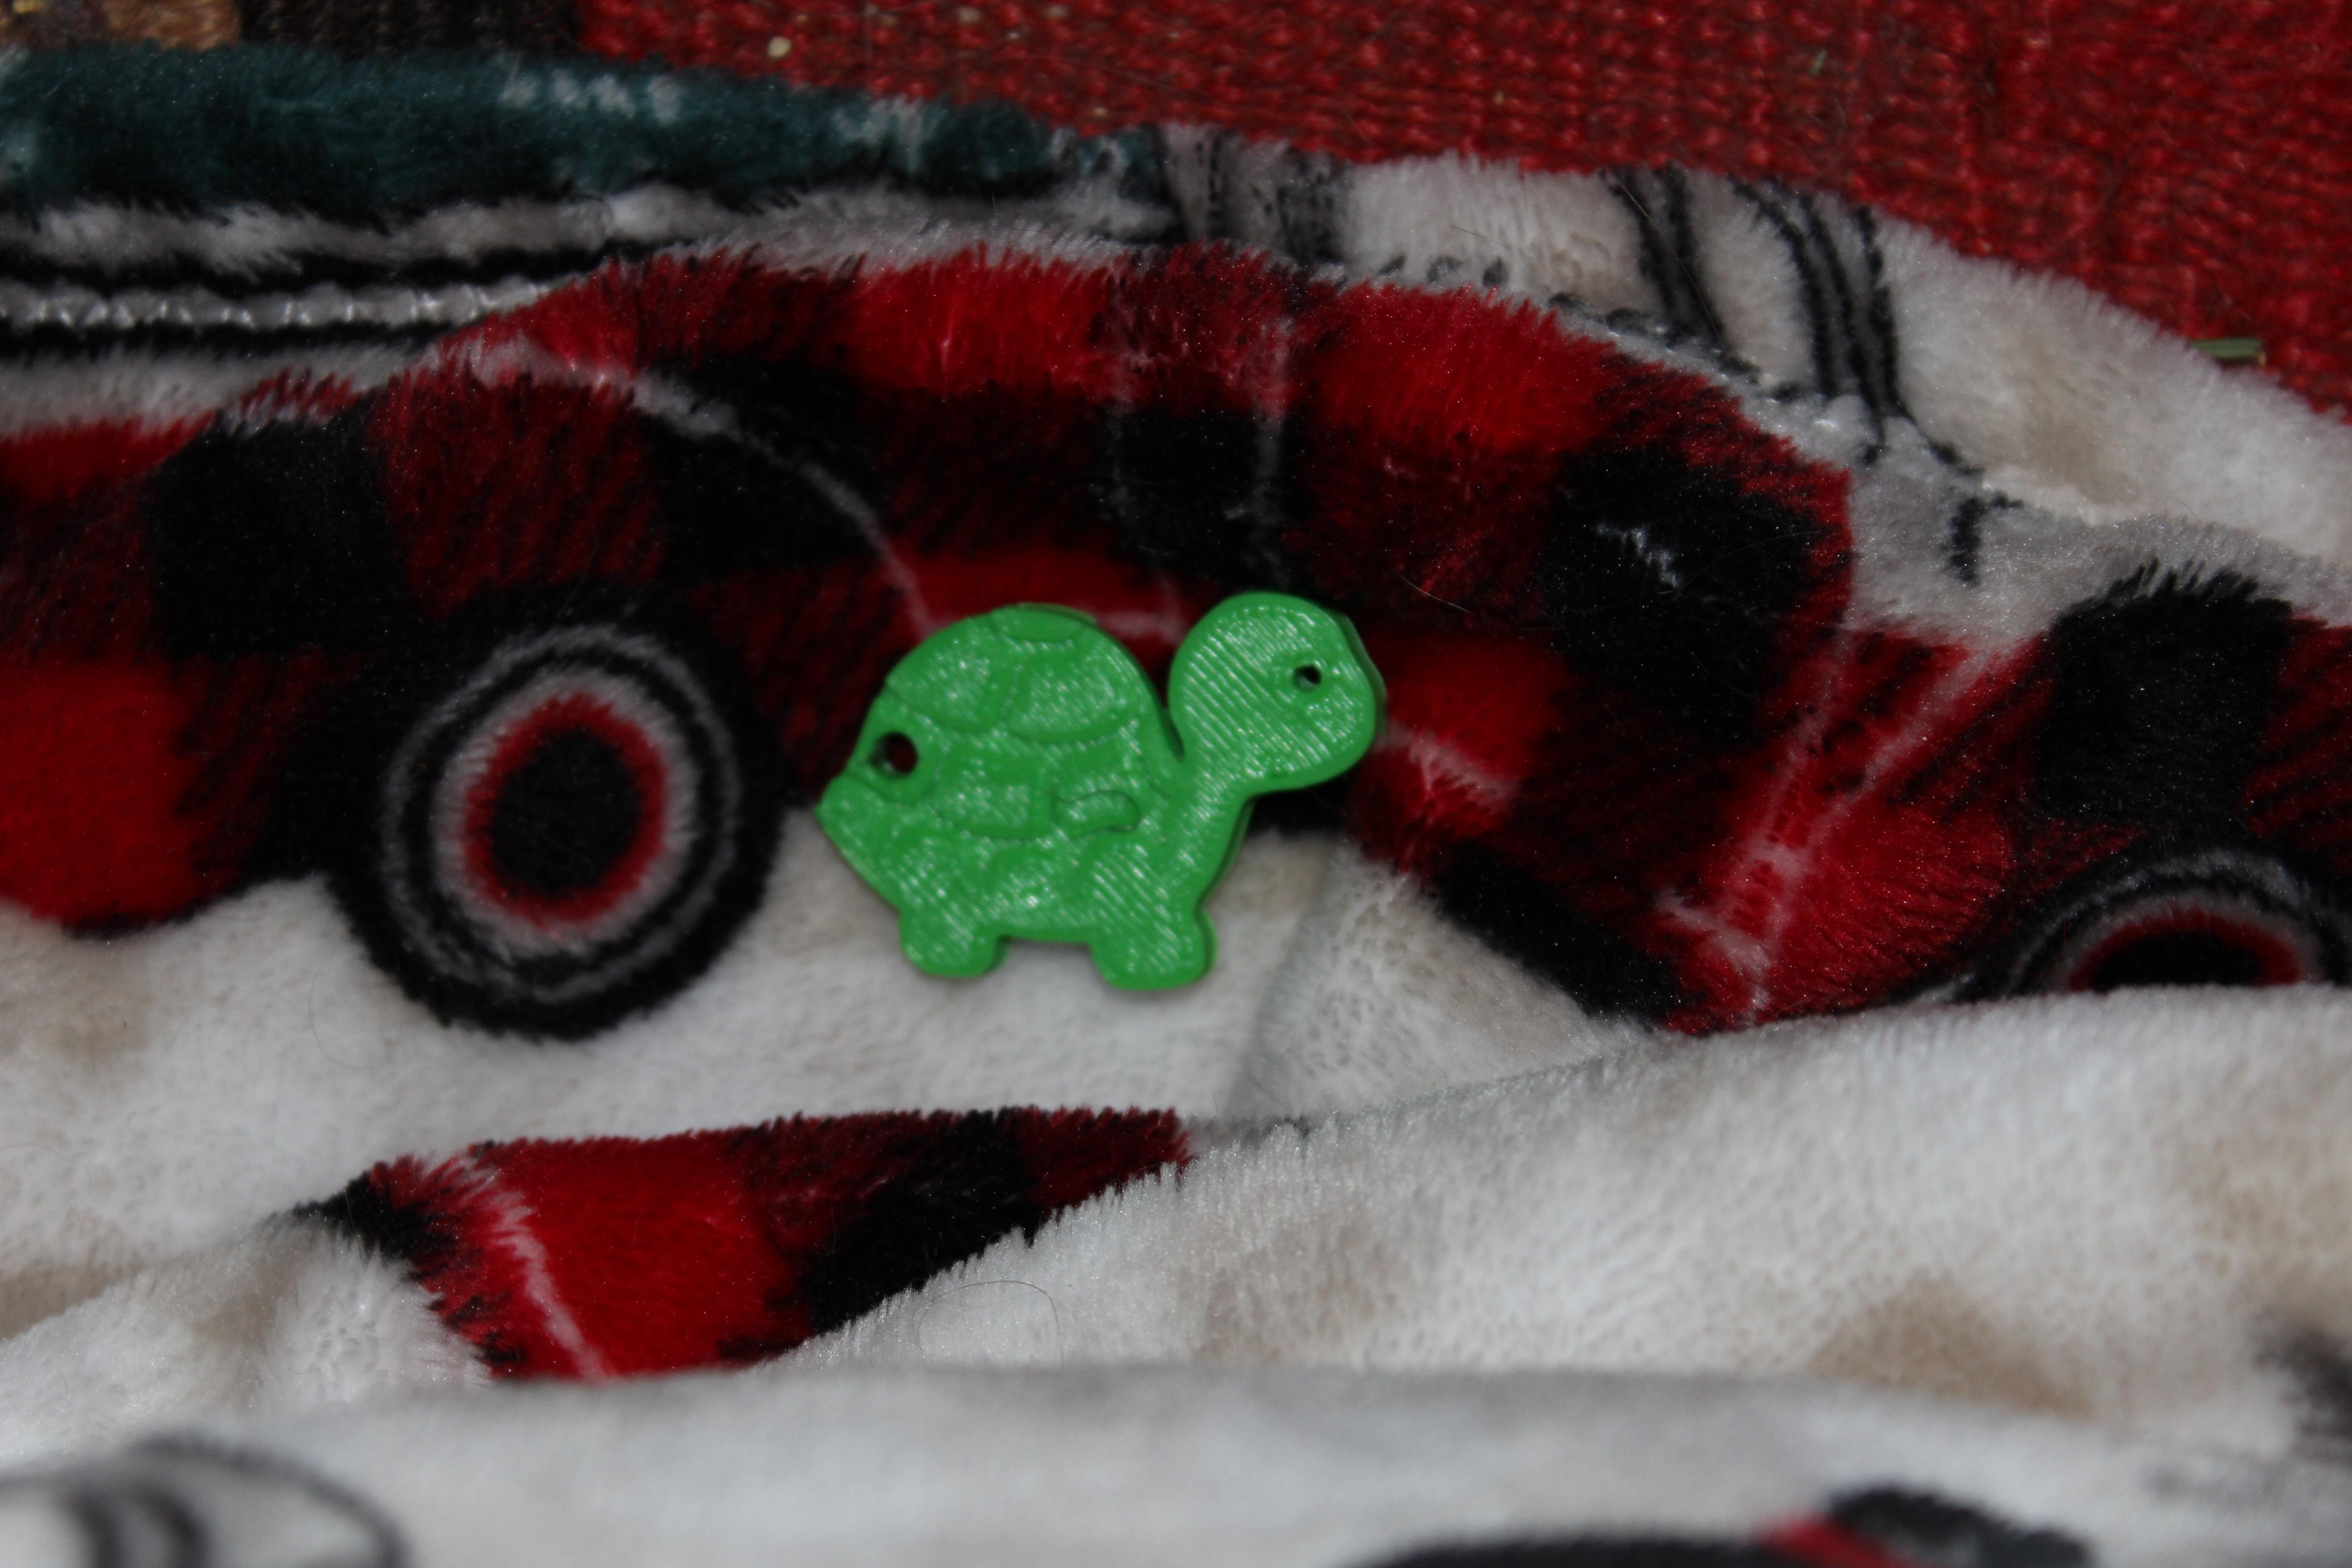turtle: (775, 542, 1414, 1022)
